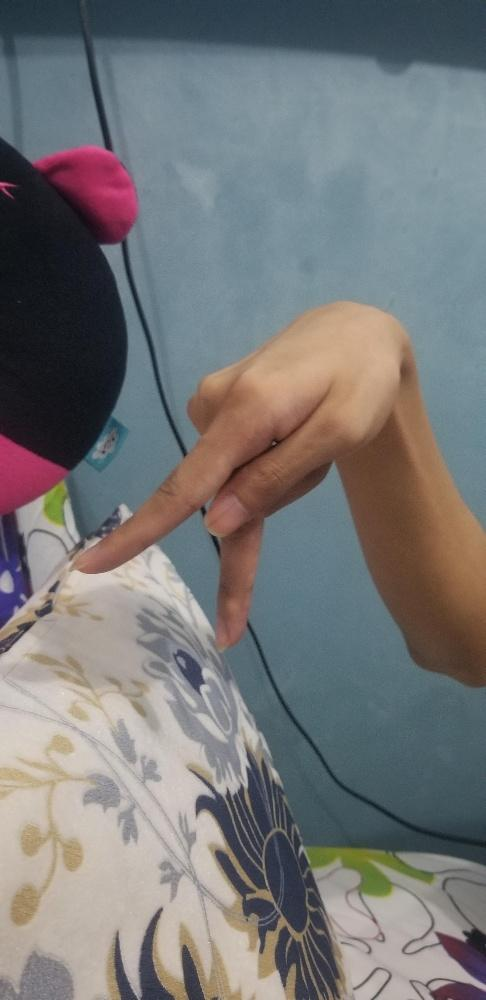p: (67, 294, 417, 653)
